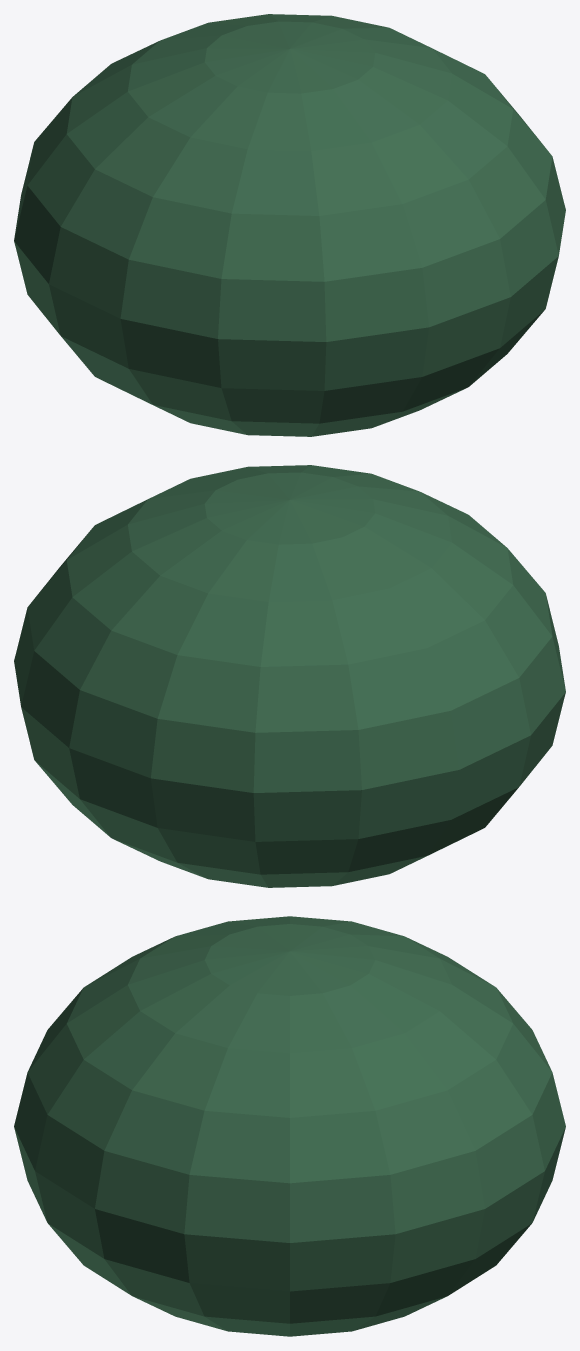
The model's file is env_bush_west.glb.
The picture shows the model from 3 angles, top to bottom: view 1: azimuth 30°, elevation 25°; view 2: azimuth 150°, elevation 25°; view 3: azimuth 270°, elevation 25°; orthographic projection.
Parts seen in each view (by area): view 1: ENV_Bush_West; view 2: ENV_Bush_West; view 3: ENV_Bush_West.
Boxes of the visible parts, x1,y1,x2,y2 form: ENV_Bush_West: (14,14,565,436); ENV_Bush_West: (14,465,565,887); ENV_Bush_West: (14,916,565,1336).
Bounding box in the file's own units: 2 × 1.4 × 2.
